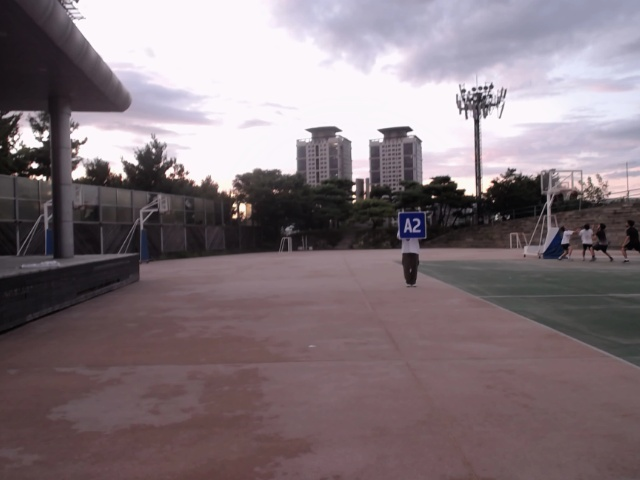delivery_a2: (399, 212, 426, 239)
